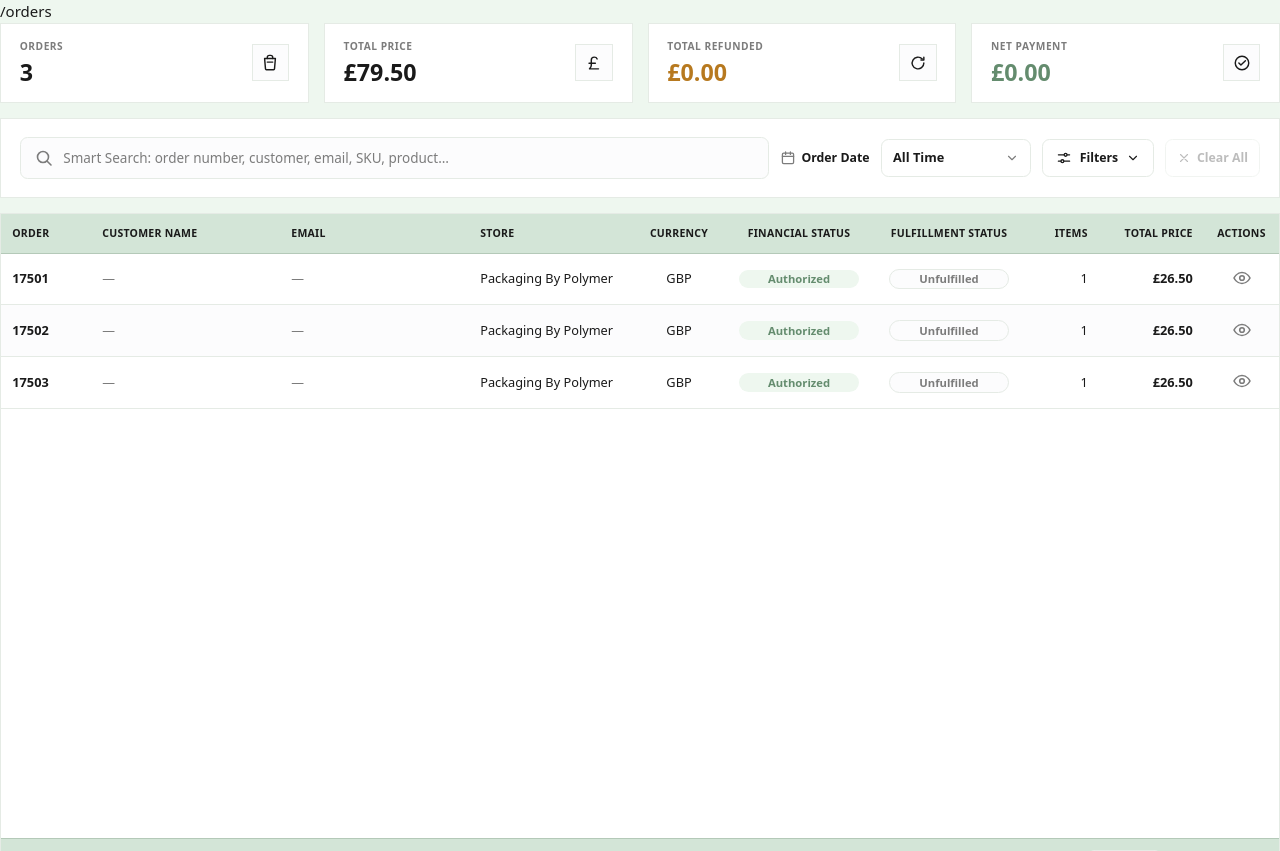
an order’s details page › lists the items on the Items tab, each linking to its product, with safe pictures only
Expected: the text "17501" is shown, left=12, top=269, right=49, bottom=287
Click the button named "View order 17501". click: {"x": 1242, "y": 278}
box: left=1228, top=265, right=1255, bottom=291
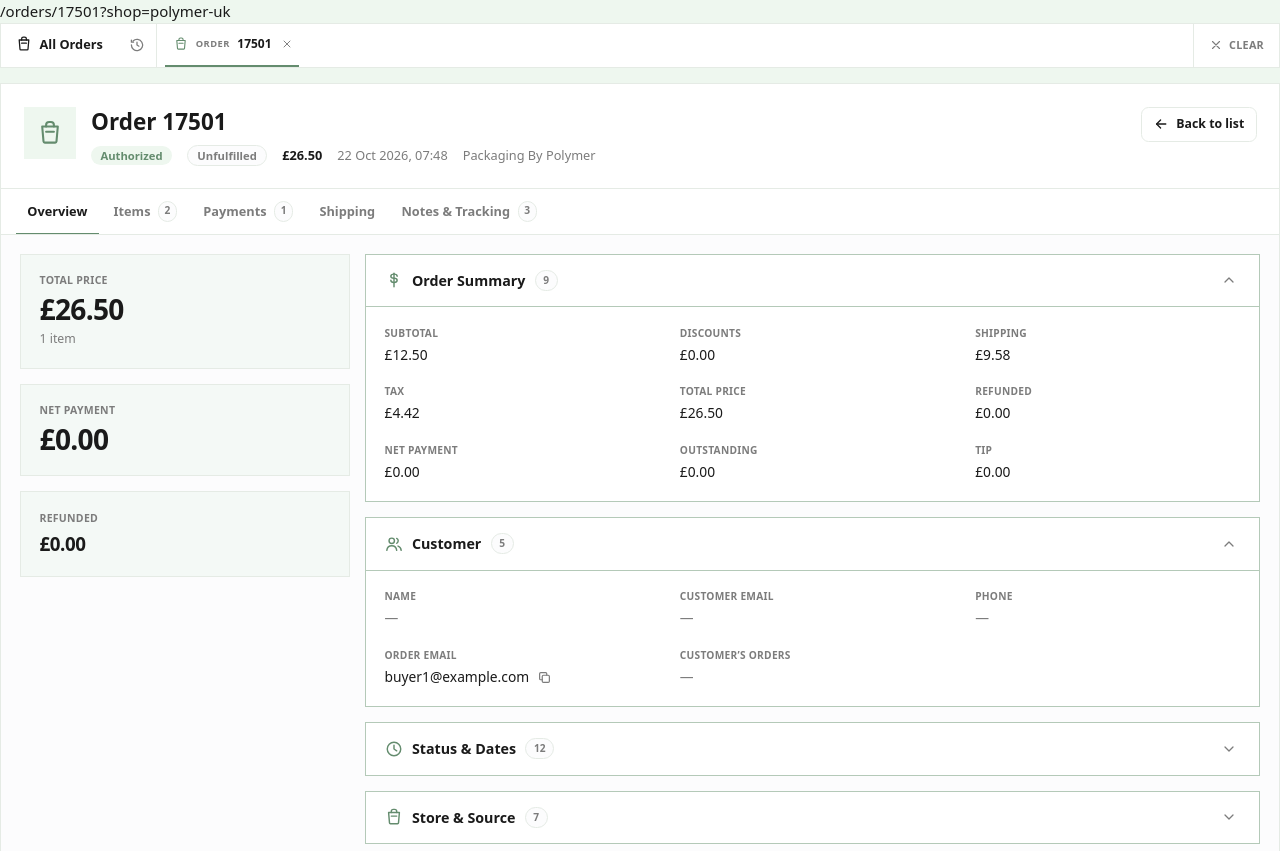
Now the heading "Order Summary" is shown, box left=412, top=270, right=525, bottom=291
Click the tab "Items 2". click: {"x": 145, "y": 212}
box: left=102, top=189, right=188, bottom=235
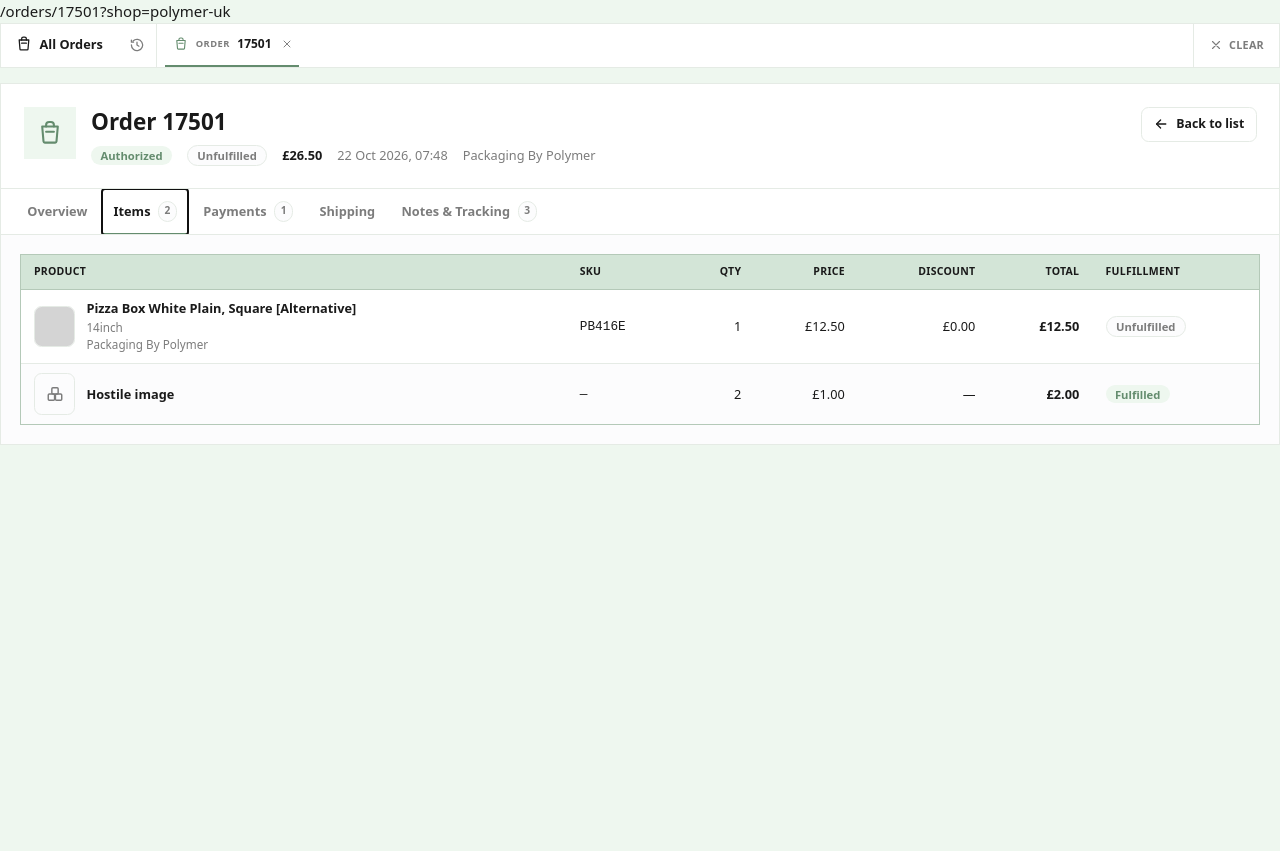
Now the text "PB416E" is shown, box left=567, top=290, right=680, bottom=364
Now the text "14inch" is shown, box left=86, top=319, right=123, bottom=335
Now the text "Unfulfilled" in the row of "14inch" is shown, box left=1116, top=319, right=1175, bottom=334
